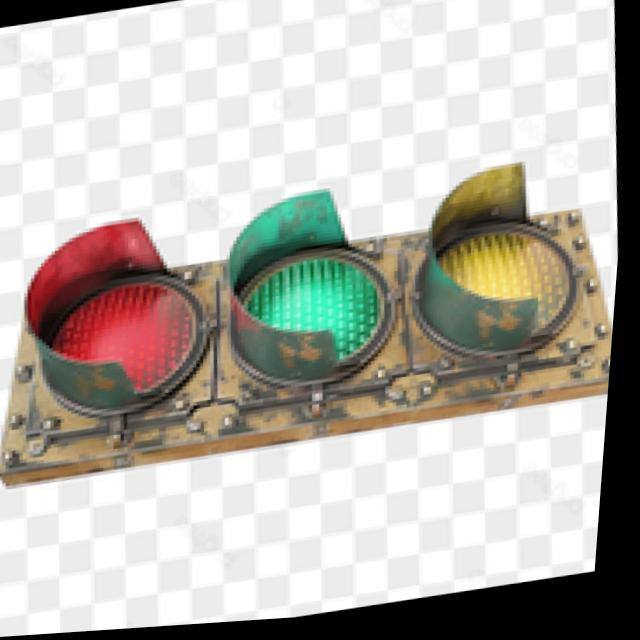green_light: (199, 198, 427, 418)
red_light: (0, 147, 251, 470)
yellow_light: (413, 170, 619, 392)
